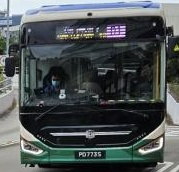bus: (105, 24, 125, 39)
